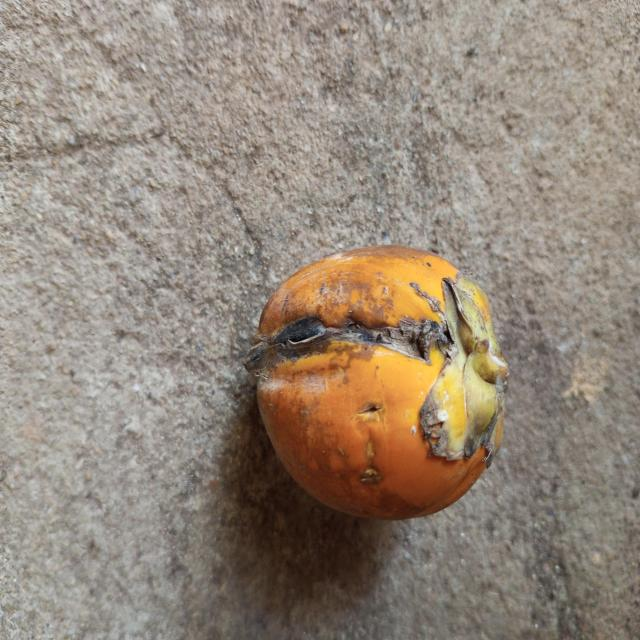damaged: (244, 246, 508, 519)
